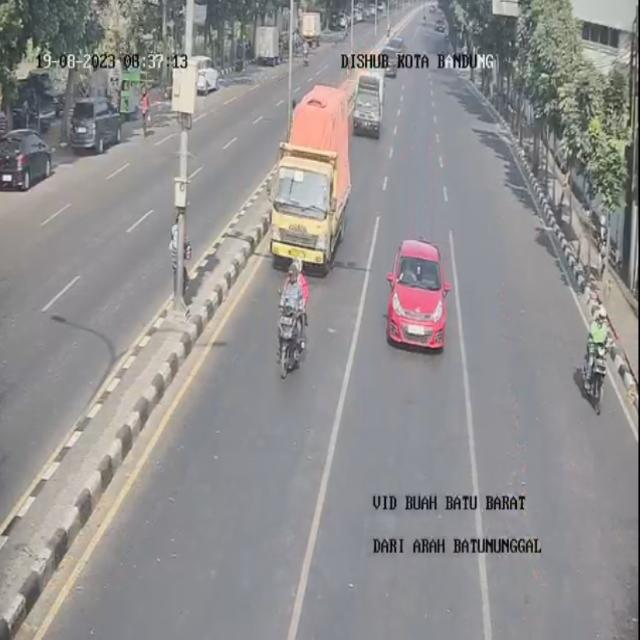cars: (390, 234, 450, 358)
motorcycle: (272, 262, 308, 379), (583, 306, 618, 411)
truck: (270, 96, 350, 274), (352, 67, 386, 140)
